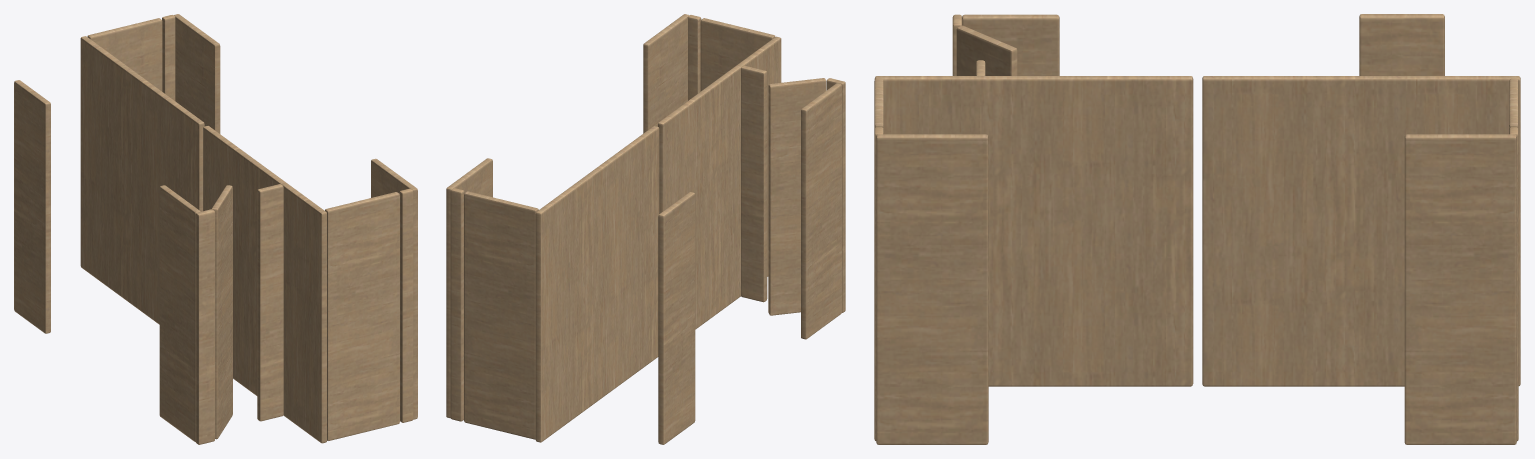
The model's file is BathroomStalls_03.fbx.
3 views of the same model, side by side, from view 1: azimuth 30°, elevation 25°; view 2: azimuth 150°, elevation 25°; view 3: azimuth 270°, elevation 25° (orthographic). The views are drawn at different scales.
Parts seen in each view (by area): view 1: BathroomStalls_03; view 2: BathroomStalls_03; view 3: BathroomStalls_03.
Boxes of the visible parts, x1,y1,x2,y2 form: BathroomStalls_03: (14,14,417,444); BathroomStalls_03: (446,14,845,444); BathroomStalls_03: (874,14,1520,444).
Bounding box in the file's own units: 191 × 220 × 416.
1 material, 1 textured.
